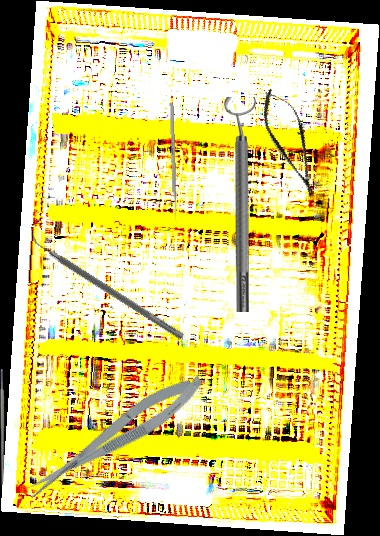Fixation Ring: (223, 97, 259, 312)
Micro Scissor: (18, 367, 211, 505), (253, 83, 329, 202)
Pusher: (169, 102, 178, 224)
Scalpel Handle: (0, 369, 5, 485)
Spatula Surgical: (25, 230, 189, 341)
